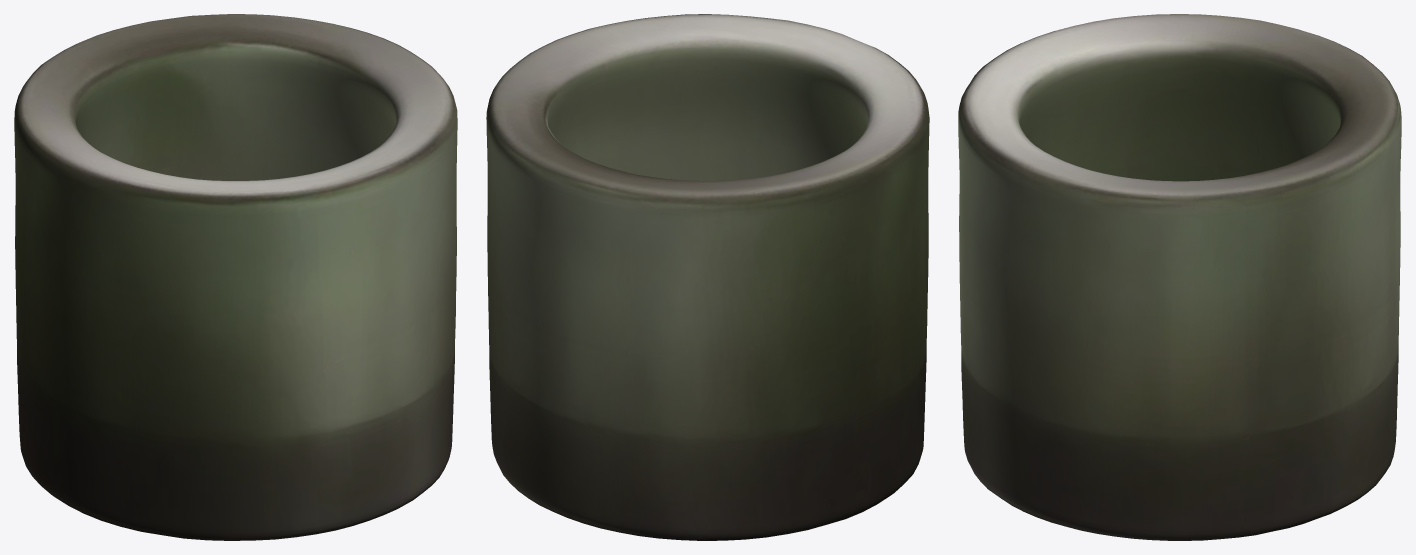
File: kivi-votive.glb
The picture shows the model from 3 angles, left to right: view 1: azimuth 30°, elevation 25°; view 2: azimuth 150°, elevation 25°; view 3: azimuth 270°, elevation 25°; orthographic projection.
Parts seen in each view (by area): view 1: tripo_node_1461fd9e-1994-447b-b2a7-64dc05a65282; view 2: tripo_node_1461fd9e-1994-447b-b2a7-64dc05a65282; view 3: tripo_node_1461fd9e-1994-447b-b2a7-64dc05a65282.
Part boxes in pixels (x1,y1,x2,y2): tripo_node_1461fd9e-1994-447b-b2a7-64dc05a65282: (14,14,457,540); tripo_node_1461fd9e-1994-447b-b2a7-64dc05a65282: (486,14,929,540); tripo_node_1461fd9e-1994-447b-b2a7-64dc05a65282: (958,14,1401,540).
Bounding box in the file's own units: 0.06 × 0.0523 × 0.06.
1 material, 1 textured.
